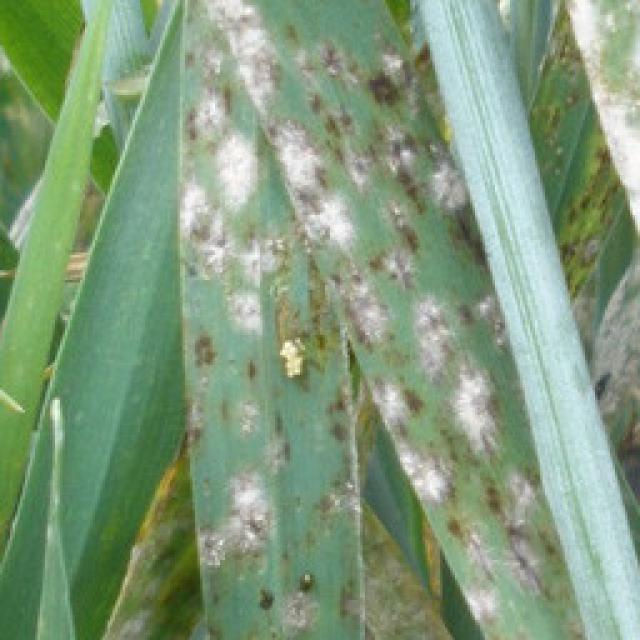wheat-powdery-mildew: (179, 0, 584, 640)
